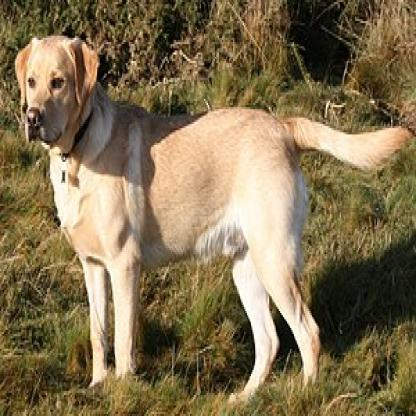dog: (15, 37, 405, 411)
